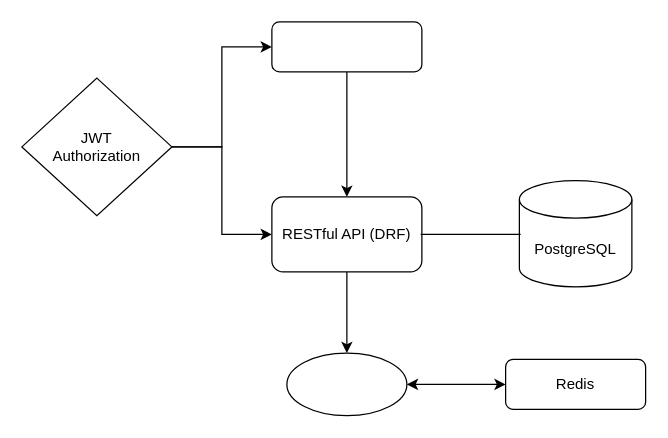
Image size: 668x438. Some labels were removed from this diagram. Here are the shapes that lost their labels. From the top down, the centre of each, then its label:
the point at 346,46: Frontend
the point at 346,384: Celery
